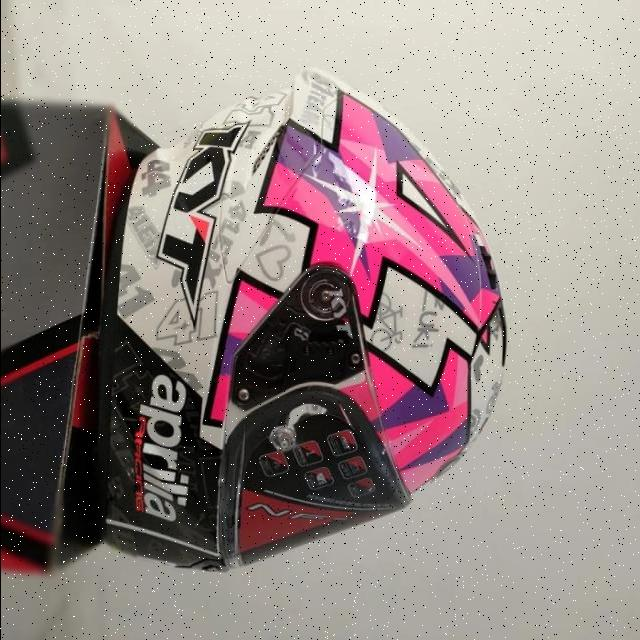Helm: (90, 62, 516, 586)
